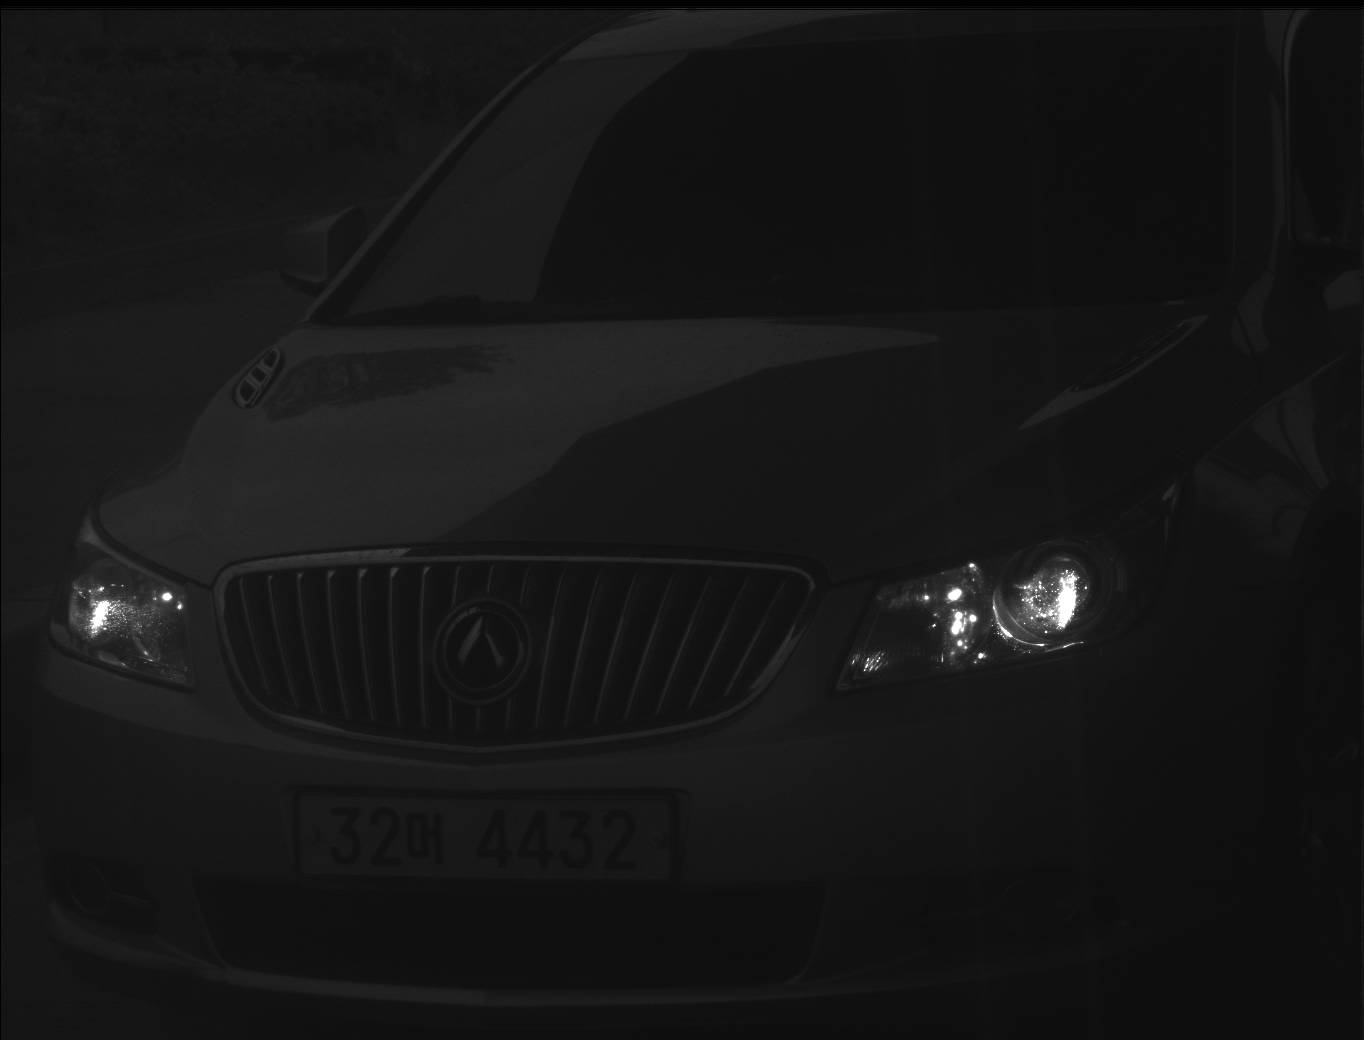car: (1, 1, 1359, 1024)
plate: (286, 782, 686, 886)
